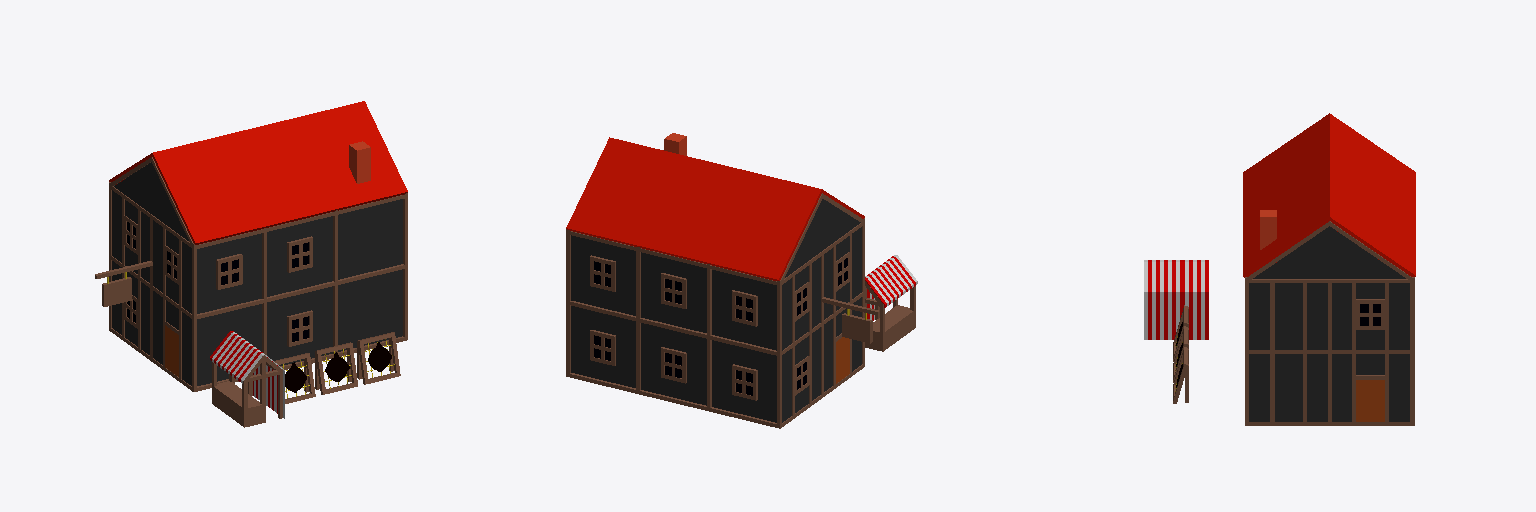
Rendered from timberframedtanner.obj.
The picture shows the model from 3 angles: view 1: azimuth 30°, elevation 25°; view 2: azimuth 150°, elevation 25°; view 3: azimuth 270°, elevation 25°; orthographic projection.
Parts seen in each view (by area): view 1: Cube.005, Cube.007_Cube.011, Cylinder.001_Cylinder.008, Cylinder.003_Cylinder.001, Cylinder.004_Cylinder.009, Cube.011_Cube.015, Cube.018_Cube.016, Cube.056_Cube.081, Cube.001_Cube.058, Cube.013_Cube.080, Cube.006_Cube.010, Cube.026_Cube.019 (+7 smaller); view 2: Cube.005, Cube.007_Cube.011, Cube.023_Cube.026, Cube.022_Cube.025, Cube.021_Cube.024, Cube.015_Cube.020, Cube.019_Cube.022, Cube.017_Cube.021, Cube.014_Cube.018, Cube.008, Cube.020_Cube.023, Cube.073_Cube.078 (+6 smaller); view 3: Cube.005, Cube.007_Cube.011, Cube.147_Cube.153, Cube.003, Cube.033, Cube.027, Cube.047_Cube.049, Cube.016_Cube.013, Cube.031, Cube.006_Cube.010, Cube.032, Cylinder.001_Cylinder.008 (+5 smaller).
Boxes of the visible parts, box(x1,y1,x2,y2) form: Cube.005: box(112, 162, 402, 385); Cube.007_Cube.011: box(109, 101, 407, 244); Cylinder.001_Cylinder.008: box(357, 332, 400, 384); Cylinder.003_Cylinder.001: box(315, 342, 357, 394); Cylinder.004_Cylinder.009: box(274, 353, 315, 403); Cube.011_Cube.015: box(195, 264, 406, 319); Cube.018_Cube.016: box(195, 195, 406, 249); Cube.056_Cube.081: box(216, 254, 242, 289); Cube.001_Cube.058: box(287, 310, 312, 346); Cube.013_Cube.080: box(287, 236, 312, 272); Cube.006_Cube.010: box(349, 141, 370, 183); Cube.026_Cube.019: box(192, 243, 196, 391); Cube.005: box(571, 199, 861, 422); Cube.007_Cube.011: box(566, 137, 864, 280); Cube.023_Cube.026: box(567, 373, 779, 427); Cube.022_Cube.025: box(567, 301, 776, 355); Cube.021_Cube.024: box(567, 231, 777, 284); Cube.015_Cube.020: box(732, 290, 757, 326); Cube.019_Cube.022: box(661, 347, 686, 383); Cube.017_Cube.021: box(590, 330, 615, 365); Cube.014_Cube.018: box(661, 273, 686, 308); Cube.008: box(590, 255, 615, 291); Cube.020_Cube.023: box(732, 364, 757, 400); Cube.073_Cube.078: box(842, 313, 872, 343); Cube.005: box(1249, 226, 1409, 421); Cube.007_Cube.011: box(1243, 113, 1415, 277); Cube.147_Cube.153: box(1144, 292, 1208, 339); Cube.003: box(1356, 380, 1384, 421); Cube.033: box(1356, 299, 1384, 329); Cube.027: box(1410, 277, 1414, 425); Cube.047_Cube.049: box(1270, 279, 1274, 423); Cube.016_Cube.013: box(1248, 350, 1410, 353); Cube.031: box(1248, 422, 1410, 425); Cube.006_Cube.010: box(1260, 210, 1276, 249); Cube.032: box(1248, 279, 1410, 282); Cylinder.001_Cylinder.008: box(1173, 347, 1188, 403).
Bounding box in the file's own units: 15.3 × 11.25 × 13.34.